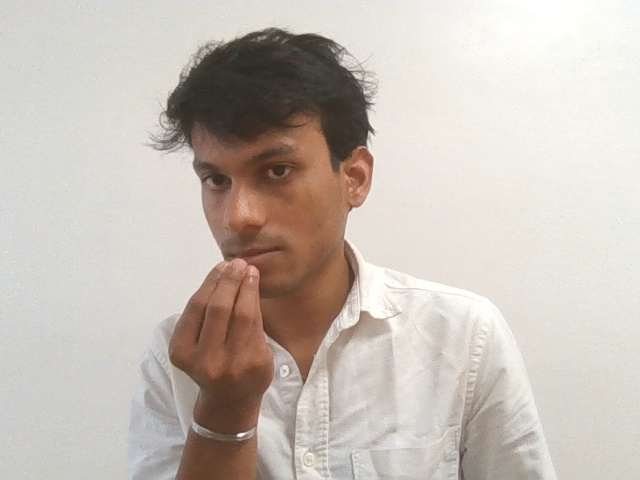Eat: (154, 254, 282, 430)
